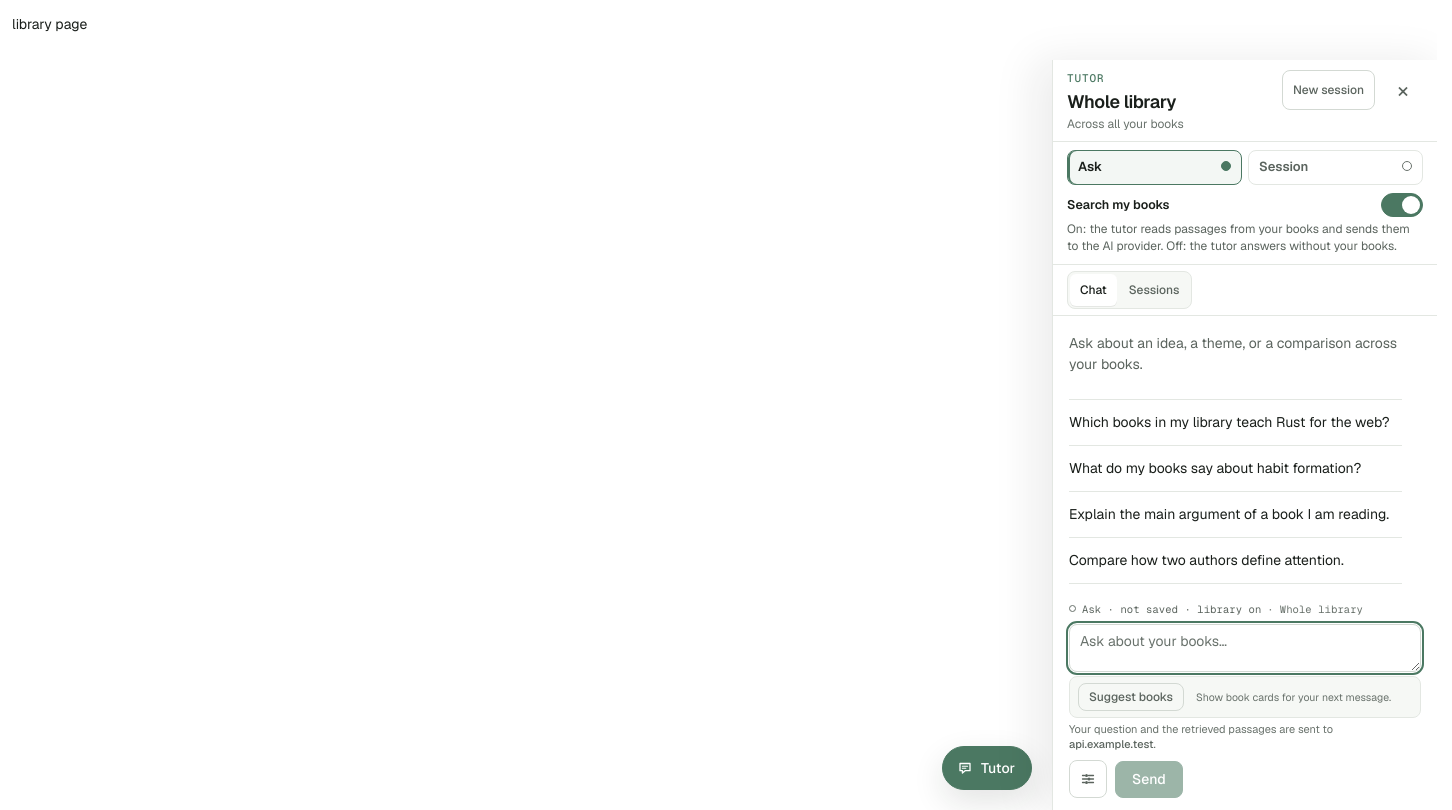
Scenario: Tutor modes › sends Ask without a conversation and with the visible library choice
Earlier steps of the test are not shown.
(page scrolled)
Expected: the text "Ask · not saved · library on" is shown, [1082,602,1261,616]
Expected: the text "On: the tutor reads passages from your books and sends them to the AI provider. Off: the tutor answers without your book" is shown, [1067,221,1410,254]
Type "A quick question" into the text box named "Your question" at (1245, 648), box [1069,624,1421,672]
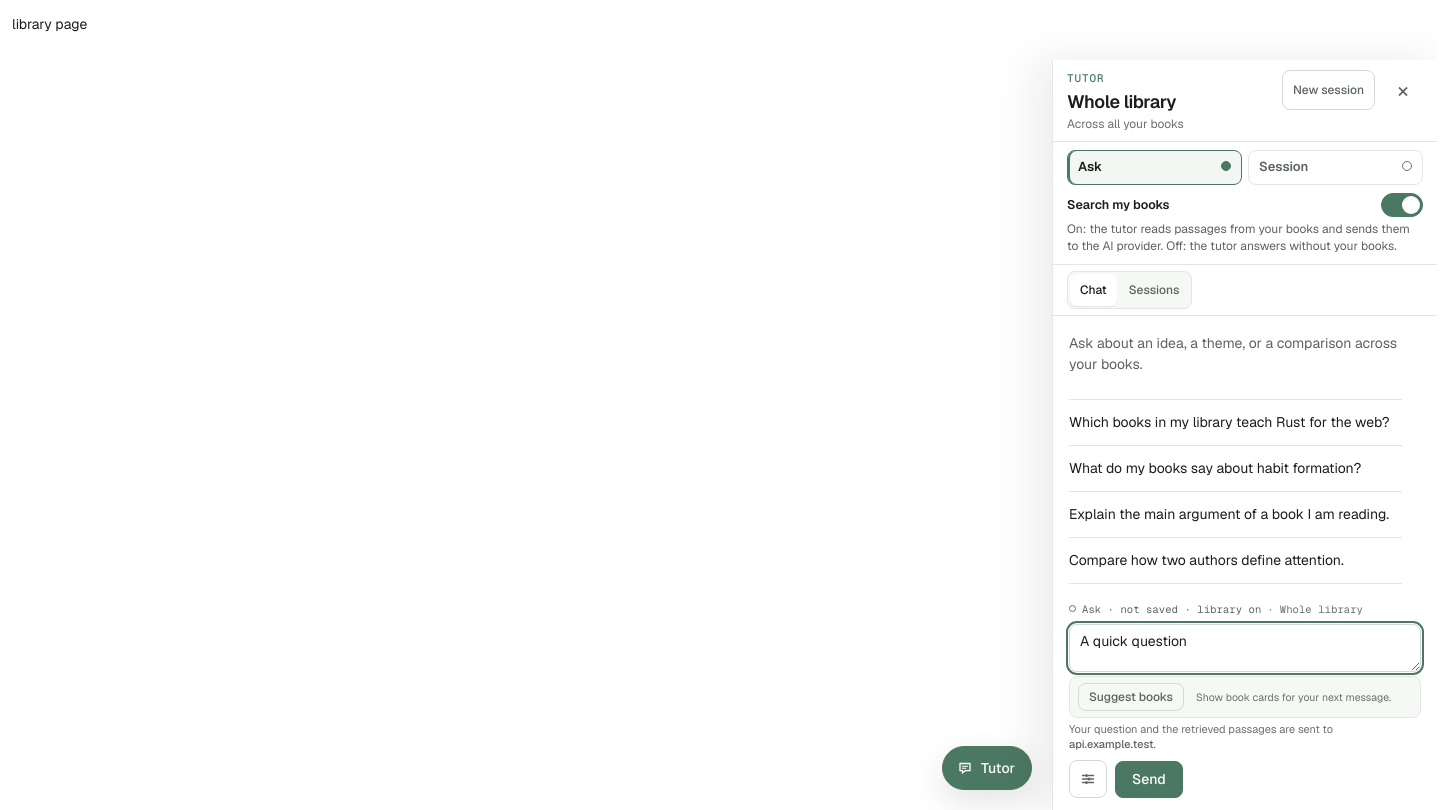
Click the button "Send" at (1149, 779), box [1115,760,1183,798]
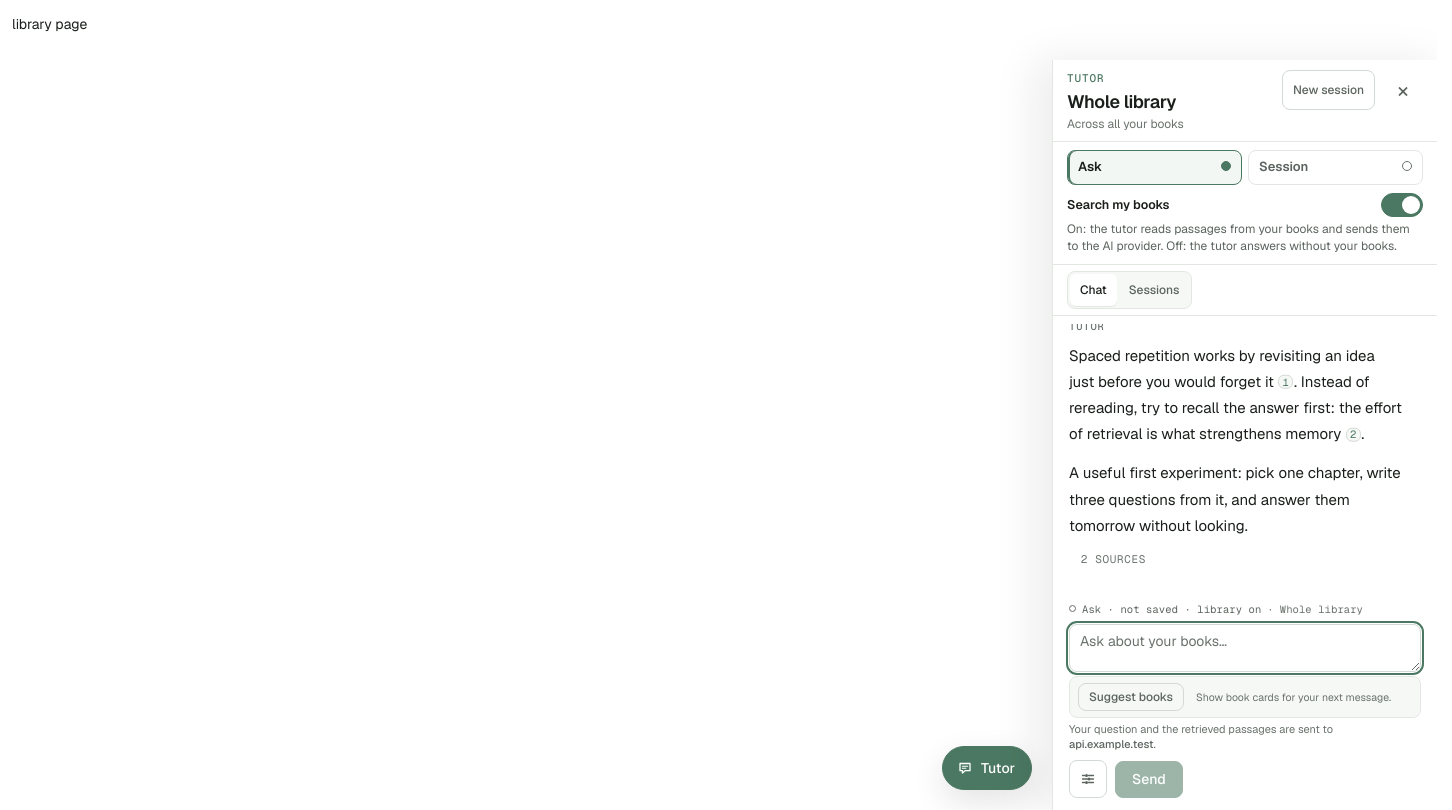
Expected: the text "Spaced repetition works" is shown, [1069,346,1375,391]
Click the switch named "Search my books" at (1402, 205), box [1381,193,1423,217]
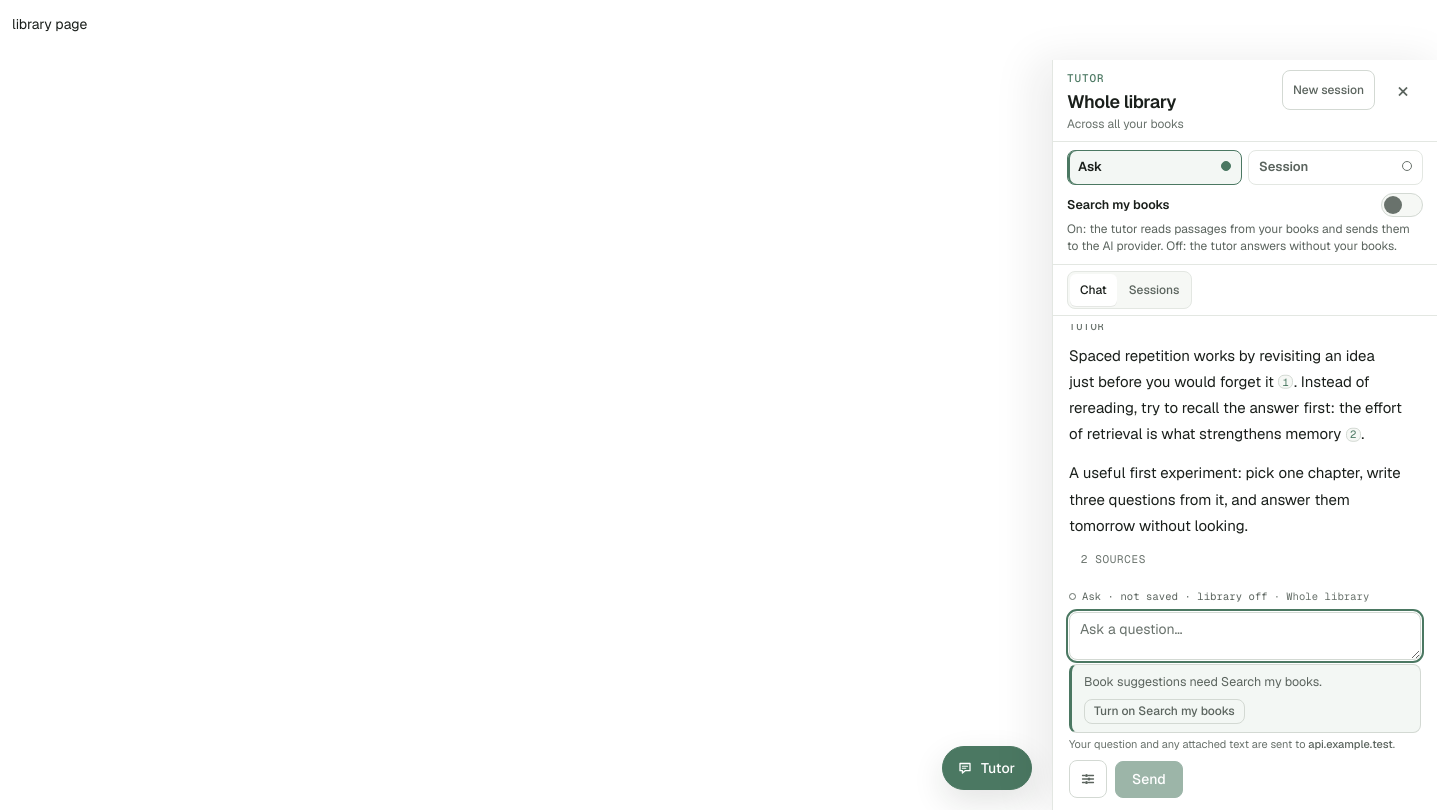
Expected: the text "On: the tutor reads passages from your books and sends them to the AI provider. Off: the tutor answers without your book" is shown, [1067,221,1410,254]
Expected: the text "Ask · not saved · library off" is shown, [1082,589,1268,604]
Type "A private question" into the text box named "Your question" at (1245, 636), box [1069,612,1421,660]
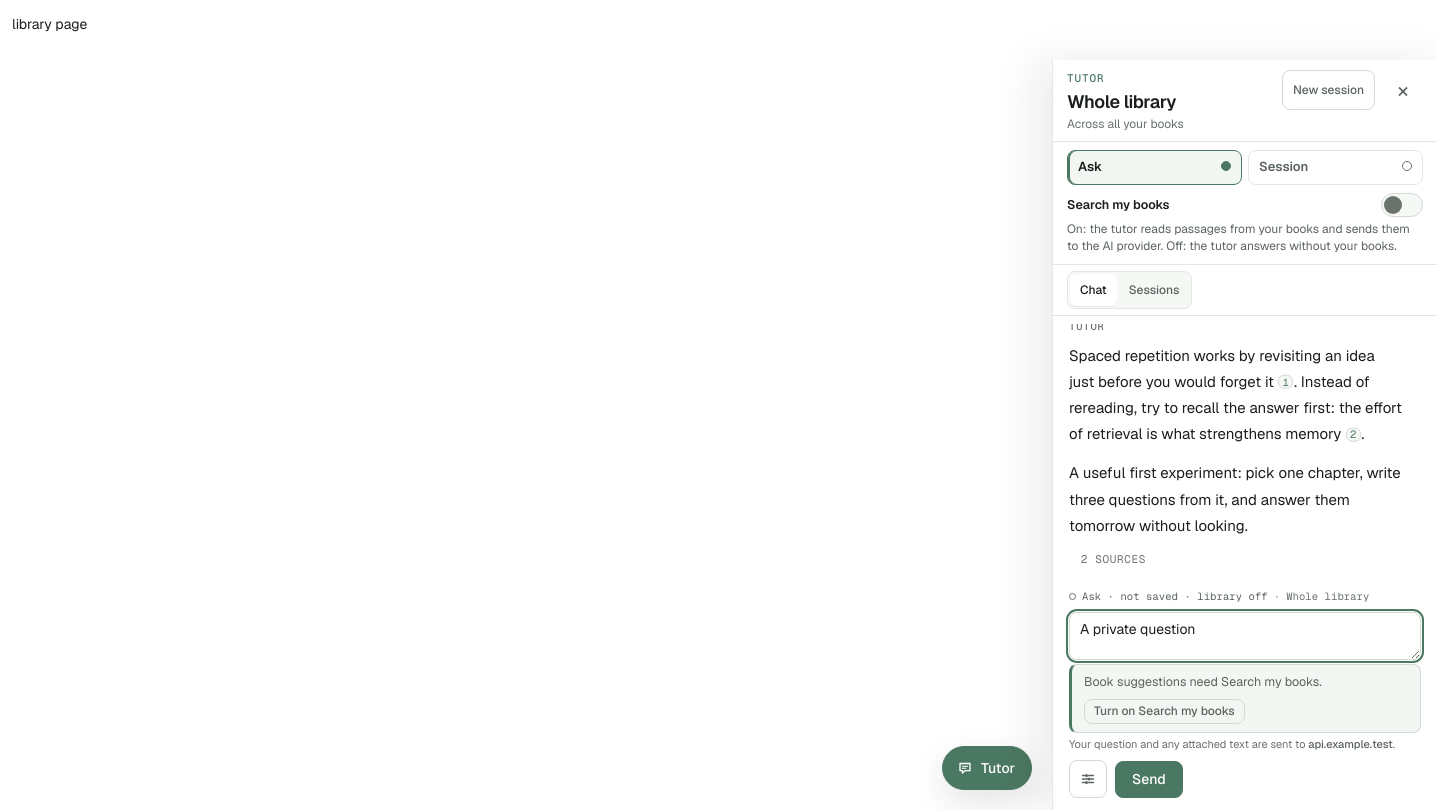
Click the button "Send" at (1149, 779), box [1115,760,1183,798]
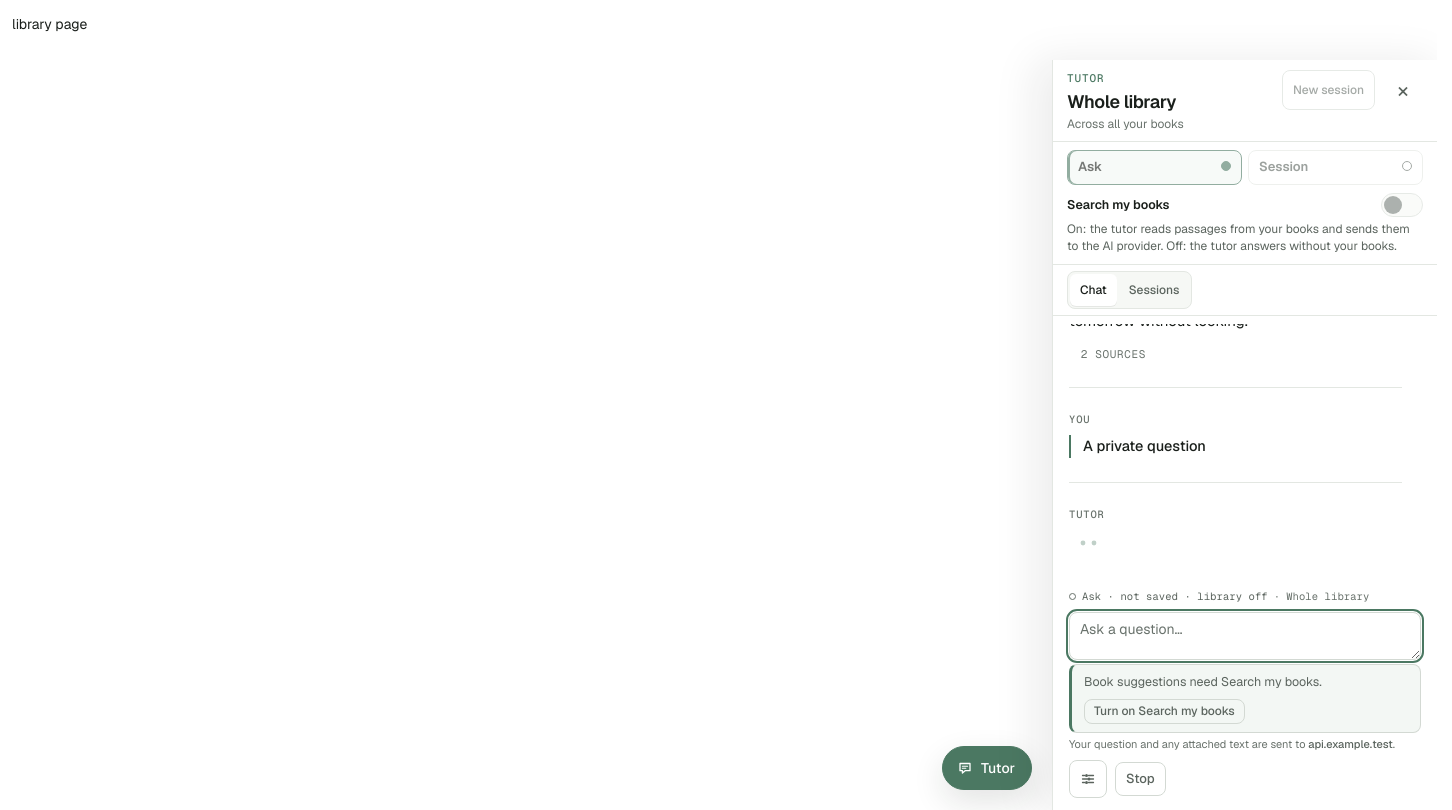
Expected: the number of headings "2 sources" is 1, [1081,347,1146,361]
Click the button "Sessions" at (1154, 290), box [1119,274,1189,306]
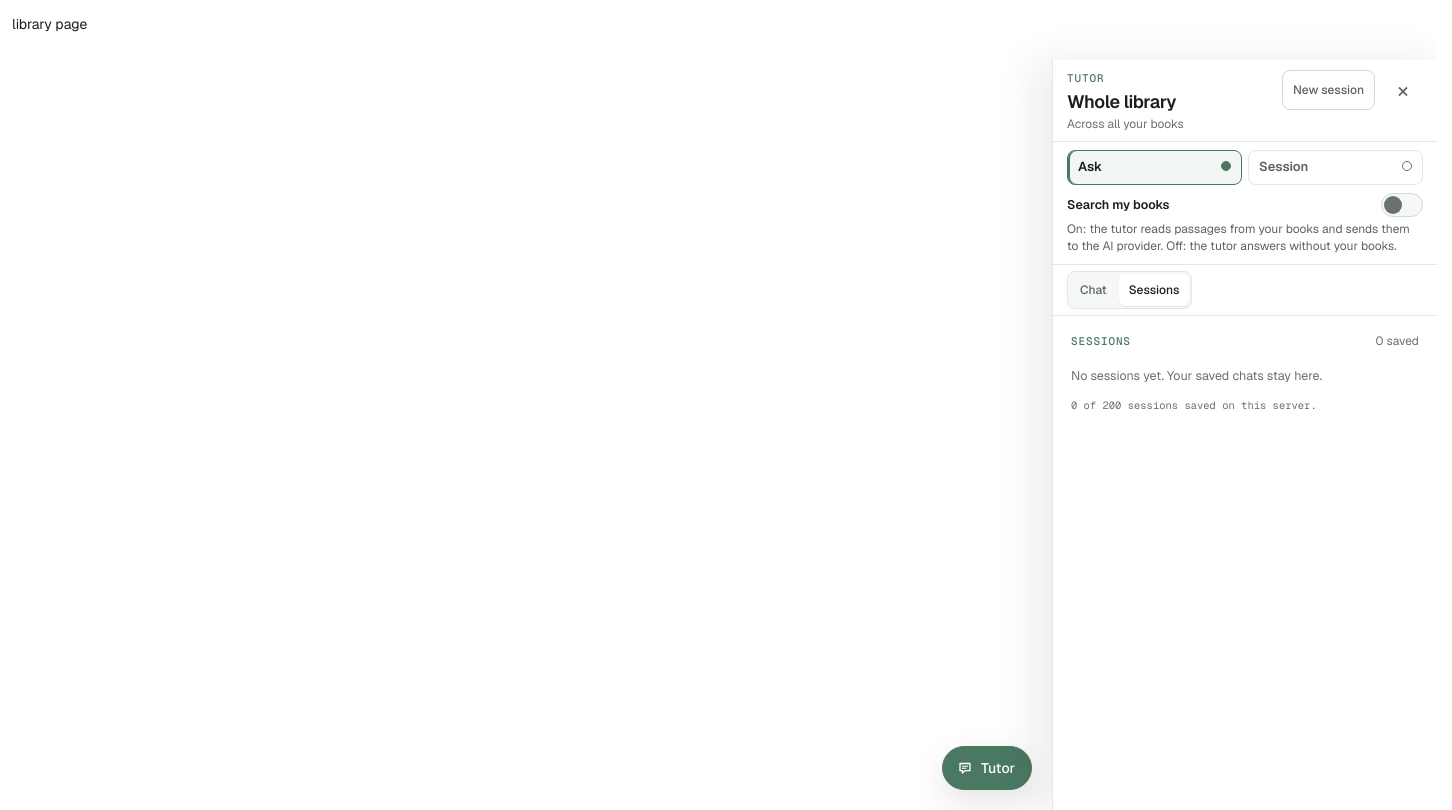
Expected: the text "No sessions yet. Your saved chats stay here." is shown, [1071,367,1322,384]
